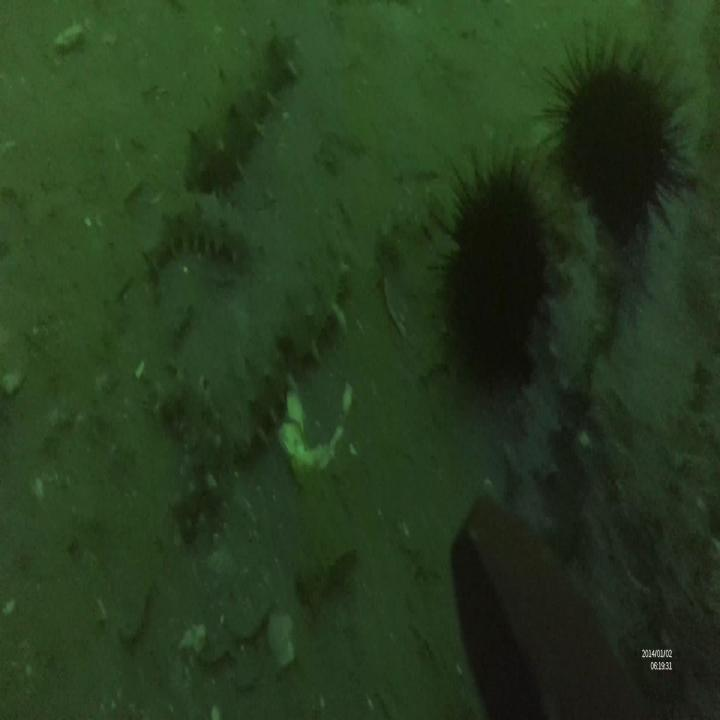echinus: (544, 30, 699, 244), (439, 144, 557, 388)
holothurian: (188, 30, 296, 194), (161, 369, 234, 546), (276, 255, 354, 370), (145, 206, 252, 280), (230, 361, 285, 463)
